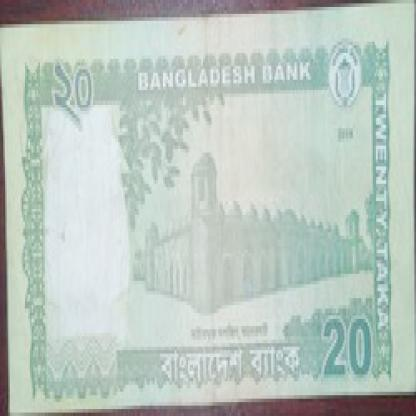Twenty: (316, 312, 374, 388), (48, 63, 100, 142)
